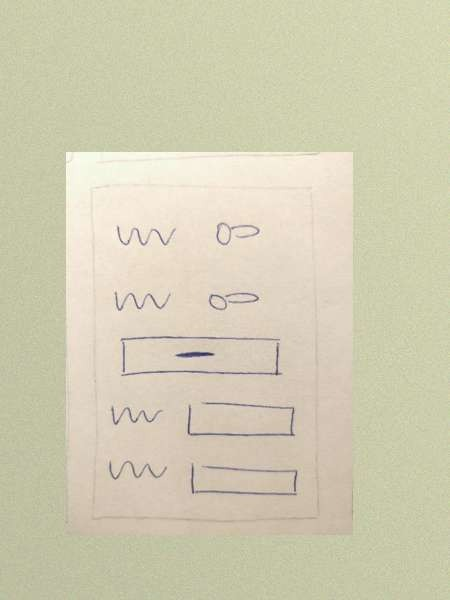button: (116, 331, 285, 381)
switch: (201, 282, 264, 314), (208, 216, 265, 249)
text: (108, 216, 185, 253), (106, 284, 175, 318), (103, 451, 170, 484), (105, 398, 166, 426)
text_input: (183, 395, 303, 446), (185, 458, 306, 504)
